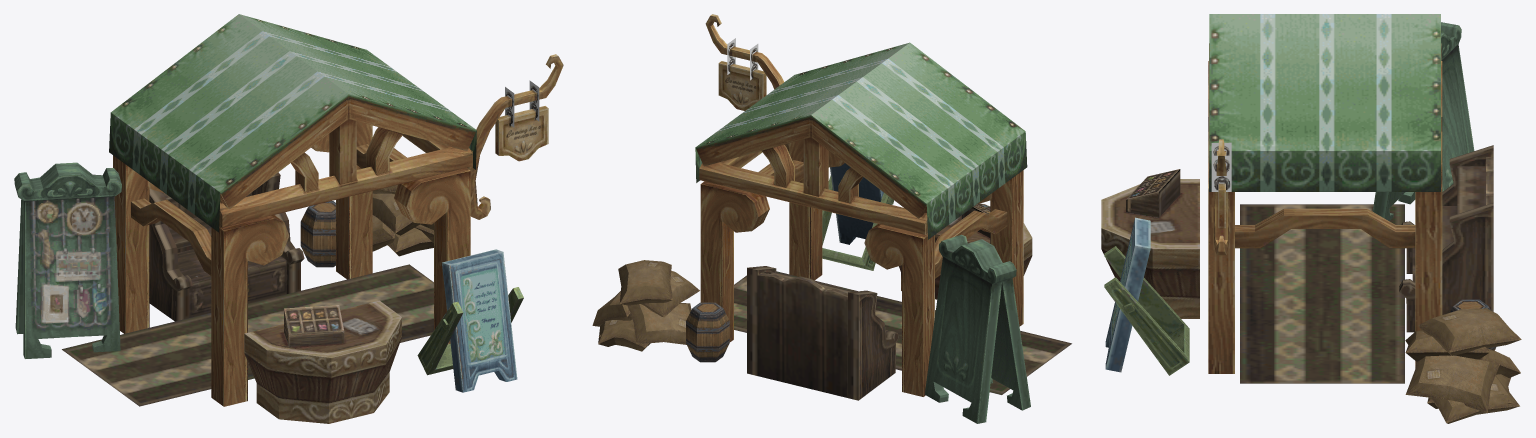
The model's file is cs_lobbynew02_wujian02_tanwei02.FBX.
3 views of the same model, side by side, from view 1: azimuth 30°, elevation 25°; view 2: azimuth 150°, elevation 25°; view 3: azimuth 270°, elevation 25° (orthographic). The views are drawn at different scales.
Visible parts, largest first — view 1: cs_lobbynew02_wujian02_tanwei02; view 2: cs_lobbynew02_wujian02_tanwei02; view 3: cs_lobbynew02_wujian02_tanwei02.
Boxes of the visible parts, <box> form: cs_lobbynew02_wujian02_tanwei02: <box>14,14,563,423</box>; cs_lobbynew02_wujian02_tanwei02: <box>592,14,1071,423</box>; cs_lobbynew02_wujian02_tanwei02: <box>1101,14,1521,423</box>.
Bounding box in the file's own units: 502 × 376 × 294.
